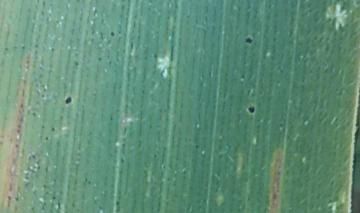tarspot: (243, 34, 253, 47), (62, 95, 74, 105), (246, 104, 256, 115), (72, 60, 81, 68), (96, 56, 104, 63), (49, 125, 56, 133), (30, 110, 37, 118), (48, 46, 56, 53), (41, 1, 48, 9), (19, 44, 28, 50), (114, 199, 121, 206), (32, 42, 39, 49), (109, 30, 115, 38), (3, 45, 9, 53), (43, 134, 49, 141), (194, 143, 199, 149), (35, 1, 38, 6)
